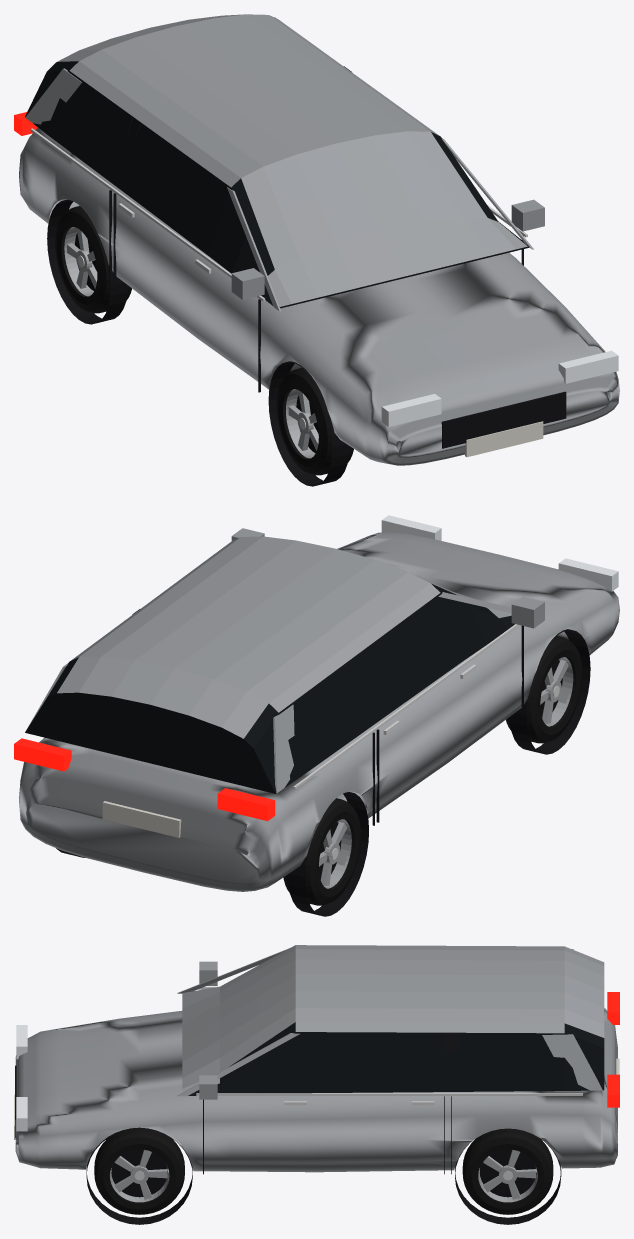
Rendered from vehicle_Traffic_Hatch_Silver.glb.
3 renders of one model, top to bottom at view 1: azimuth 30°, elevation 25°; view 2: azimuth 150°, elevation 25°; view 3: azimuth 270°, elevation 25°, orthographic. The views are drawn at different scales.
Parts seen in each view (by area): view 1: Traffic_Hatch_Silver_Cabin, Traffic_Hatch_Silver_Body, Traffic_Hatch_Silver_Trim, Traffic_Hatch_Silver_Wheel_FR, Traffic_Hatch_Silver_Wheel_RR; view 2: Traffic_Hatch_Silver_Cabin, Traffic_Hatch_Silver_Body, Traffic_Hatch_Silver_Trim, Traffic_Hatch_Silver_Wheel_RR, Traffic_Hatch_Silver_Wheel_FR; view 3: Traffic_Hatch_Silver_Cabin, Traffic_Hatch_Silver_Body, Traffic_Hatch_Silver_Wheel_FL, Traffic_Hatch_Silver_Wheel_RL, Traffic_Hatch_Silver_Trim.
Part boxes in pixels (left/top/right/bottom): Traffic_Hatch_Silver_Cabin: left=25, top=14, right=533, bottom=311; Traffic_Hatch_Silver_Body: left=19, top=127, right=619, bottom=465; Traffic_Hatch_Silver_Trim: left=14, top=112, right=618, bottom=486; Traffic_Hatch_Silver_Wheel_FR: left=276, top=368, right=353, bottom=475; Traffic_Hatch_Silver_Wheel_RR: left=55, top=206, right=131, bottom=313; Traffic_Hatch_Silver_Cabin: left=25, top=536, right=514, bottom=793; Traffic_Hatch_Silver_Body: left=19, top=532, right=619, bottom=891; Traffic_Hatch_Silver_Trim: left=14, top=515, right=618, bottom=916; Traffic_Hatch_Silver_Wheel_RR: left=283, top=798, right=360, bottom=905; Traffic_Hatch_Silver_Wheel_FR: left=506, top=636, right=582, bottom=743; Traffic_Hatch_Silver_Cabin: left=177, top=945, right=604, bottom=1096; Traffic_Hatch_Silver_Body: left=15, top=1008, right=617, bottom=1172; Traffic_Hatch_Silver_Wheel_FL: left=94, top=1128, right=184, bottom=1214; Traffic_Hatch_Silver_Wheel_RL: left=462, top=1128, right=553, bottom=1214; Traffic_Hatch_Silver_Trim: left=14, top=961, right=619, bottom=1224.
Bounding box in the file's own units: 2.05 × 1.54 × 4.28.
